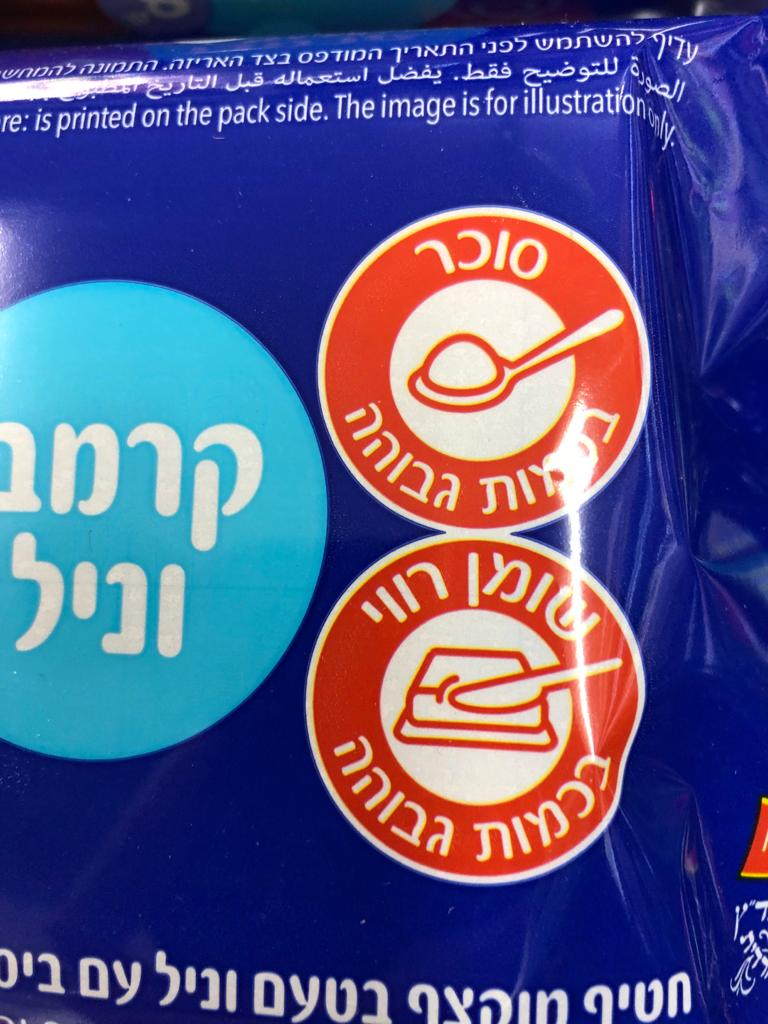fat: (303, 534, 648, 886)
sugar: (316, 205, 655, 535)
